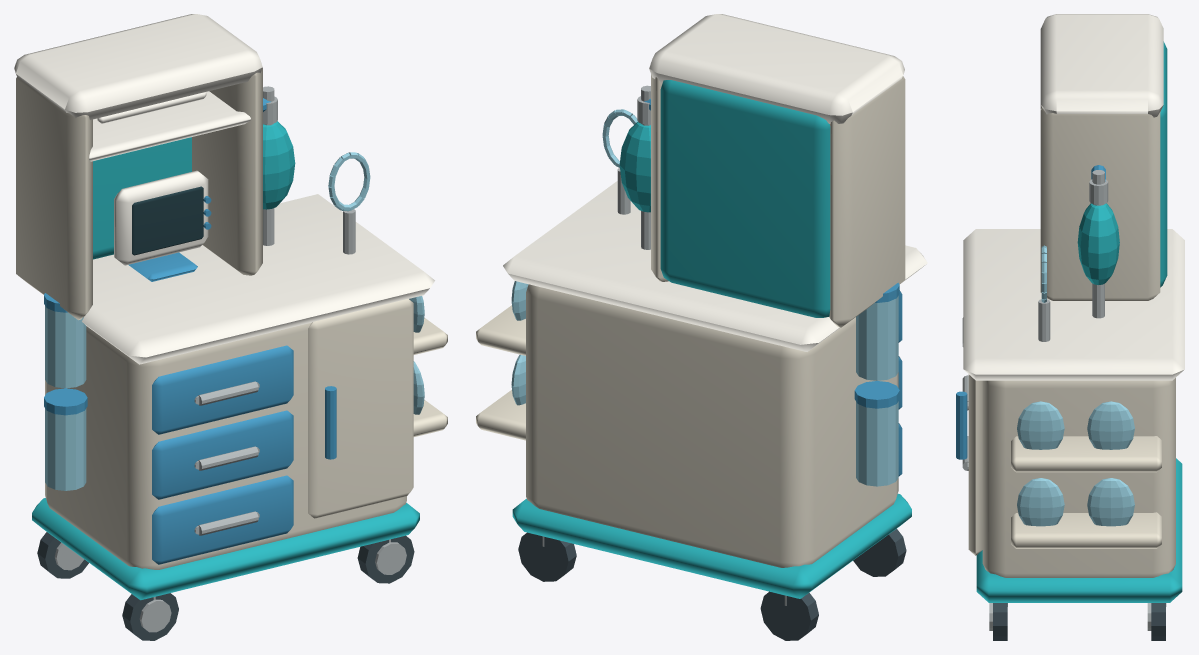
The model's file is AirReady_advanced.glb.
3 renders of one model, left to right at view 1: azimuth 30°, elevation 25°; view 2: azimuth 150°, elevation 25°; view 3: azimuth 270°, elevation 25°, orthographic. The views are drawn at different scales.
Parts seen in each view (by area): view 1: Static_white, Static_ivory, Door_Storage_door.003, Static_teal, Drawer_1, Drawer_2, Drawer_3, Static_lightblue, Static_screen, Static_steel, Static_dark, Static_blue (+1 smaller); view 2: Static_ivory, Static_teal, Static_white, Static_lightblue, Static_dark, Static_blue, Static_steel; view 3: Static_ivory, Static_white, Static_teal, Static_lightblue, Door_Storage_door.003, Static_steel, Static_dark, Door_Door_pull.003.
Boxes of the visible parts, left/top/right/bottom form: Static_white: left=14, top=14, right=434, bottom=364; Static_ivory: left=16, top=68, right=447, bottom=569; Door_Storage_door.003: left=308, top=299, right=413, bottom=518; Static_teal: left=32, top=121, right=419, bottom=600; Drawer_1: left=152, top=345, right=293, bottom=434; Drawer_2: left=152, top=410, right=293, bottom=499; Drawer_3: left=152, top=475, right=293, bottom=564; Static_lightblue: left=45, top=152, right=424, bottom=490; Static_screen: left=132, top=186, right=203, bottom=255; Static_steel: left=54, top=86, right=406, bottom=632; Static_dark: left=37, top=532, right=414, bottom=640; Static_blue: left=44, top=98, right=270, bottom=415; Static_ivory: left=476, top=74, right=905, bottom=567; Static_teal: left=512, top=80, right=911, bottom=598; Static_white: left=503, top=14, right=927, bottom=351; Static_lightblue: left=511, top=109, right=898, bottom=486; Static_dark: left=518, top=528, right=906, bottom=640; Static_blue: left=644, top=98, right=899, bottom=408; Static_steel: left=542, top=85, right=786, bottom=605; Static_ivory: left=982, top=105, right=1175, bottom=577; Static_white: left=963, top=14, right=1184, bottom=380; Static_teal: left=976, top=41, right=1182, bottom=602; Static_lightblue: left=1017, top=245, right=1134, bottom=526; Door_Storage_door.003: left=968, top=374, right=982, bottom=555; Static_steel: left=989, top=170, right=1166, bottom=630; Static_dark: left=993, top=603, right=1165, bottom=640; Door_Door_pull.003: left=956, top=391, right=967, bottom=459.
Bounding box in the file's own units: 1.12 × 1.57 × 0.651.
